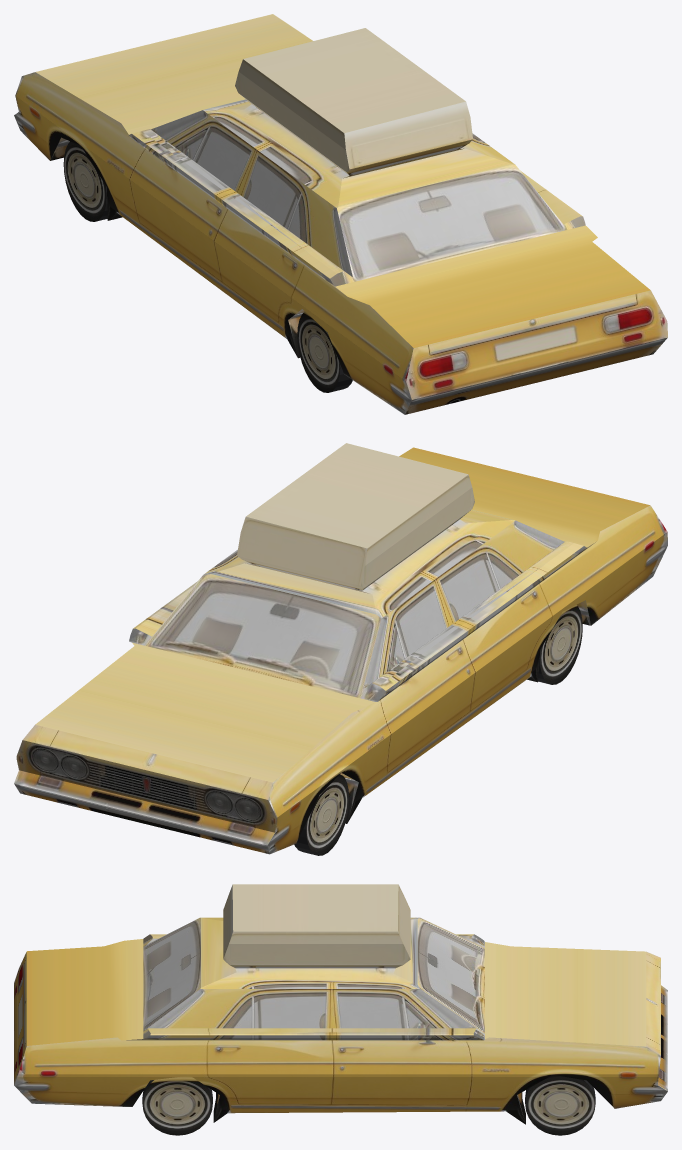
The model's file is taxi.glb.
The picture shows the model from 3 angles, top to bottom: view 1: azimuth 30°, elevation 25°; view 2: azimuth 150°, elevation 25°; view 3: azimuth 270°, elevation 25°; orthographic projection. The views are drawn at different scales.
Visible parts, largest first — view 1: taxi, wheel_BL, wheel_FL; view 2: taxi, wheel_FL, wheel_BL; view 3: taxi, wheel_FR, wheel_BR.
Part boxes in pixels (x1=…): taxi: x1=14, y1=14, x2=667, y2=414; wheel_BL: x1=297, y1=311, x2=352, y2=392; wheel_FL: x1=63, y1=141, x2=107, y2=221; taxi: x1=14, y1=443, x2=667, y2=854; wheel_FL: x1=294, y1=774, x2=349, y2=855; wheel_BL: x1=538, y1=605, x2=582, y2=684; taxi: x1=14, y1=884, x2=667, y2=1124; wheel_FR: x1=525, y1=1074, x2=595, y2=1135; wheel_BR: x1=142, y1=1075, x2=212, y2=1135.
Size of the model in its own units: 1.84 by 1.49 by 4.9.
Materials: 3 (1 with a texture image).
